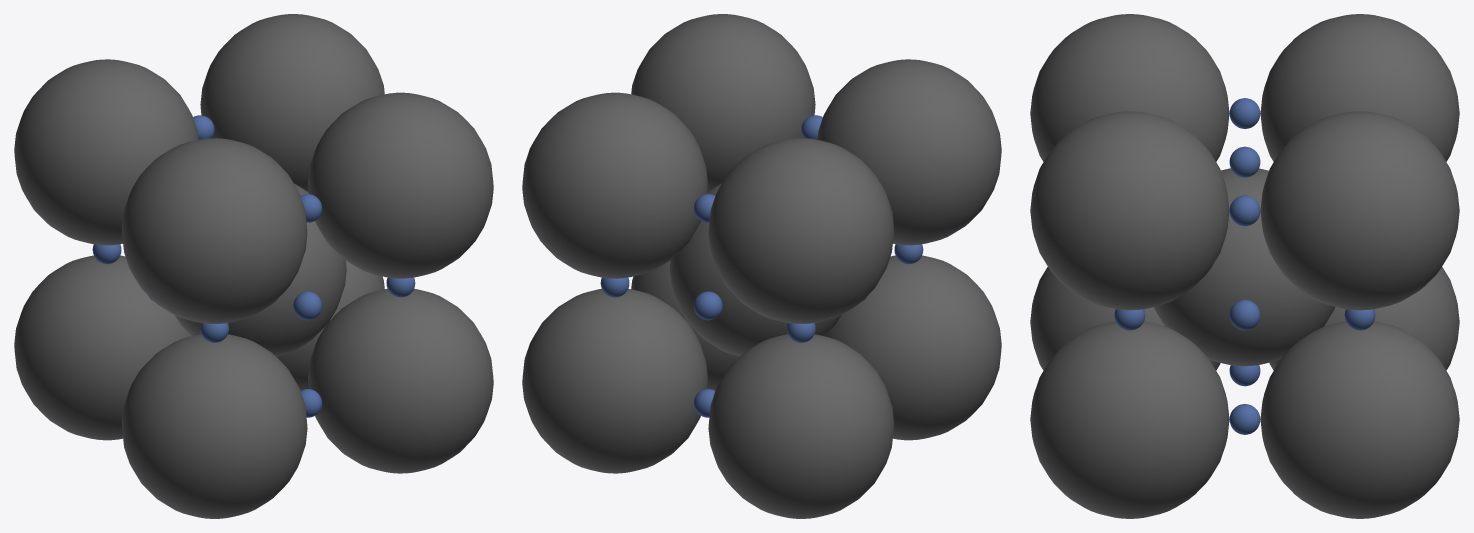
File: krz_OL.glb
3 renders of one model, left to right at view 1: azimuth 30°, elevation 25°; view 2: azimuth 150°, elevation 25°; view 3: azimuth 270°, elevation 25°, orthographic. The views are drawn at different scales.
Parts seen in each view (by area): view 1: Sphere.006, Sphere.003; view 2: Sphere.006, Sphere.003; view 3: Sphere.006, Sphere.003.
Boxes of the visible parts, <box> form: Sphere.006: <box>14,14,493,518</box>; Sphere.003: <box>92,115,415,417</box>; Sphere.006: <box>522,14,1001,518</box>; Sphere.003: <box>600,115,923,417</box>; Sphere.006: <box>1030,14,1459,518</box>; Sphere.003: <box>1114,98,1375,434</box>.
Bounding box in the file's own units: 4.31 × 4.31 × 4.31.
